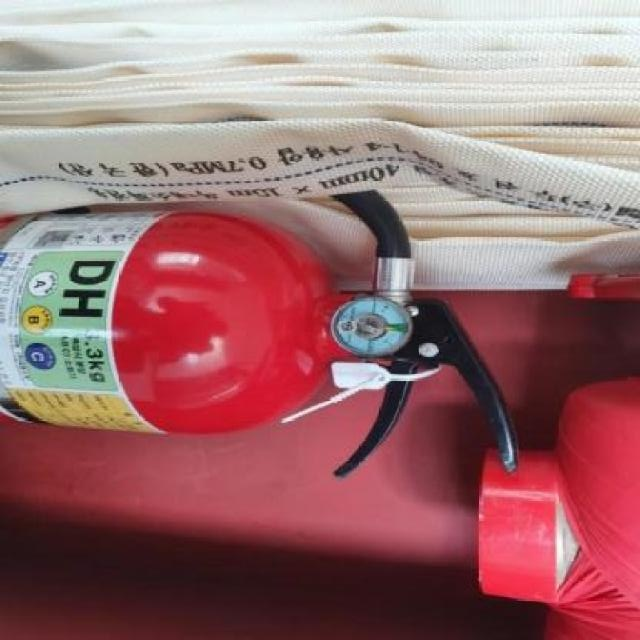fire extinguisher: (0, 188, 520, 481)
